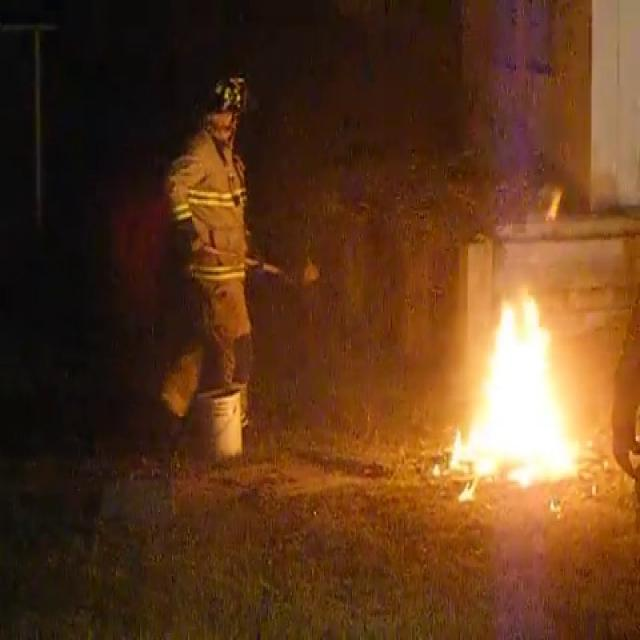Fire: (447, 278, 585, 492)
